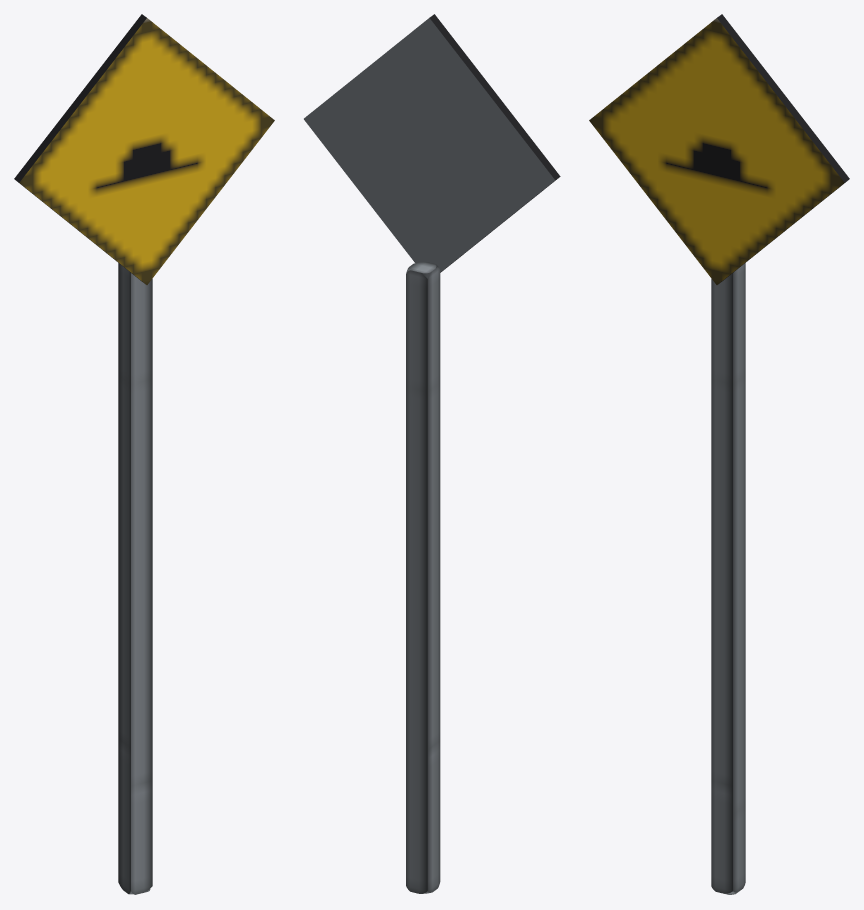
Rendered from Senal_Tope.fbx.
The picture shows the model from 3 angles, left to right: view 1: azimuth 30°, elevation 25°; view 2: azimuth 150°, elevation 25°; view 3: azimuth 330°, elevation 25°; orthographic projection.
Visible parts, largest first — view 1: Senal_Tope; view 2: Senal_Tope; view 3: Senal_Tope.
Part boxes in pixels (x1,y1,x2,y2): Senal_Tope: (14,14,274,894); Senal_Tope: (304,14,560,893); Senal_Tope: (589,14,849,894).
Size of the model in its own units: 0.875 by 2.88 by 0.1063.
1 material, 1 textured.
